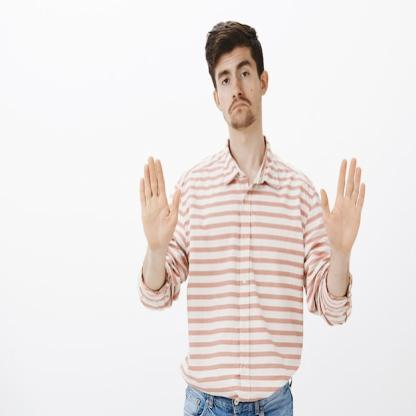stop: (135, 152, 182, 258), (320, 153, 366, 256)
